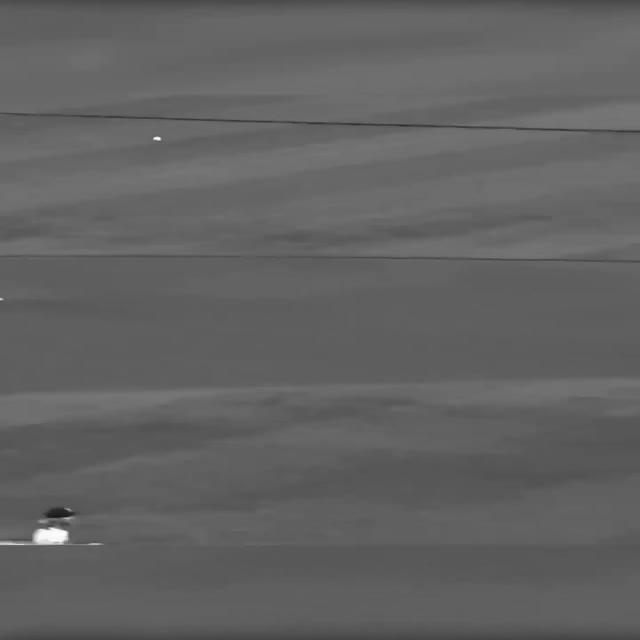baseball: (152, 136, 162, 141)
